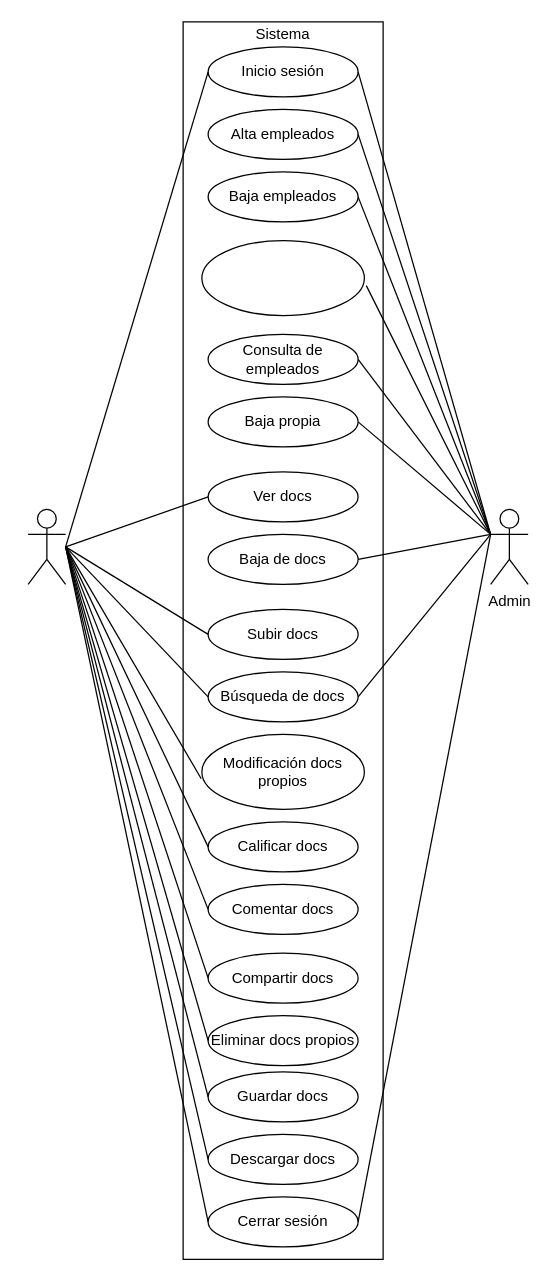
The diagram is 553 pixels wide and 1281 high, and some of its shapes have lost their labels. Here are the shapes that lost their labels. From the top down, the centre of each, then its label:
pixel 282 277: Modificación datos de empleados
pixel 46 546: Usuario
